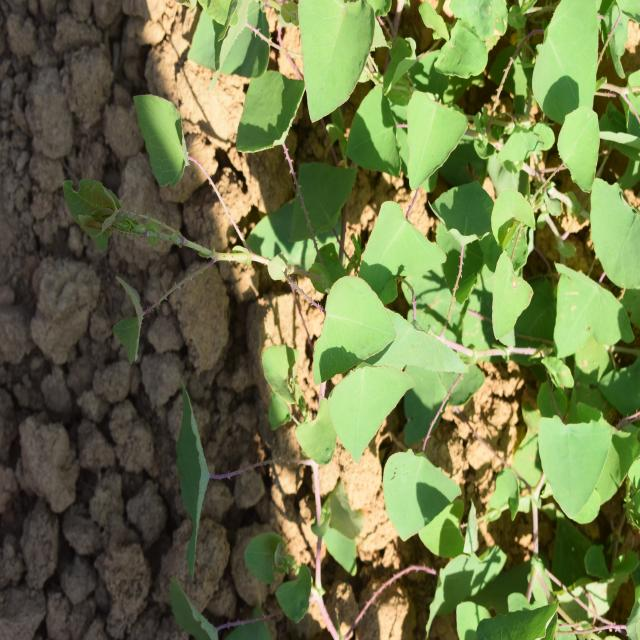Asiatic_Smartweed: (311, 170, 480, 540), (44, 74, 238, 354), (255, 0, 487, 185), (532, 151, 640, 525), (166, 378, 233, 590)
